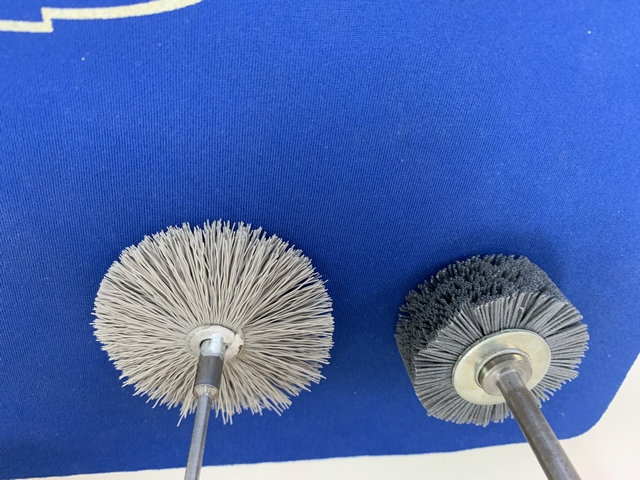TOOL: (91, 212, 322, 477), (81, 200, 341, 432), (83, 203, 296, 442), (78, 297, 345, 479), (156, 200, 346, 450)
Wheel Brush: (388, 245, 595, 480), (386, 246, 543, 464), (391, 244, 590, 410), (448, 248, 589, 460)
